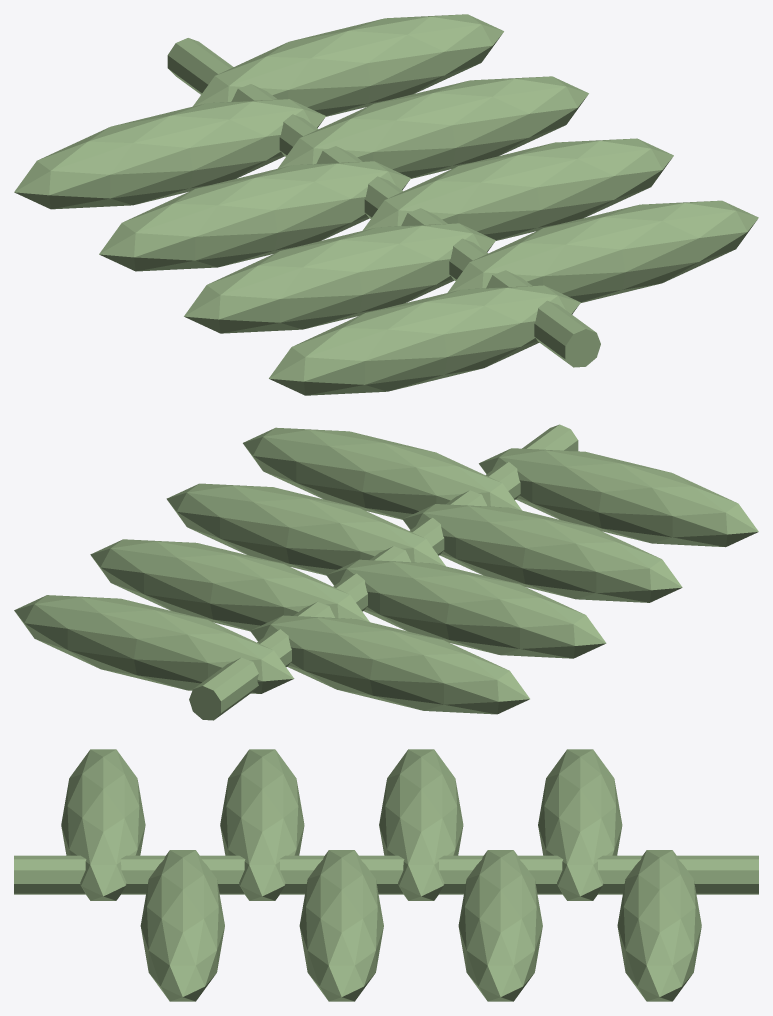
Rendered from grass.glb.
3 renders of one model, top to bottom at view 1: azimuth 30°, elevation 25°; view 2: azimuth 150°, elevation 25°; view 3: azimuth 270°, elevation 25°, orthographic. The views are drawn at different scales.
Visible parts, largest first — view 1: world; view 2: world; view 3: world.
Boxes of the visible parts, x1,y1,x2,y2 form: world: [14, 14, 758, 395]; world: [14, 424, 758, 720]; world: [14, 749, 758, 1001].
Bounding box in the file's own units: 1.16 × 0.16 × 1.5.
